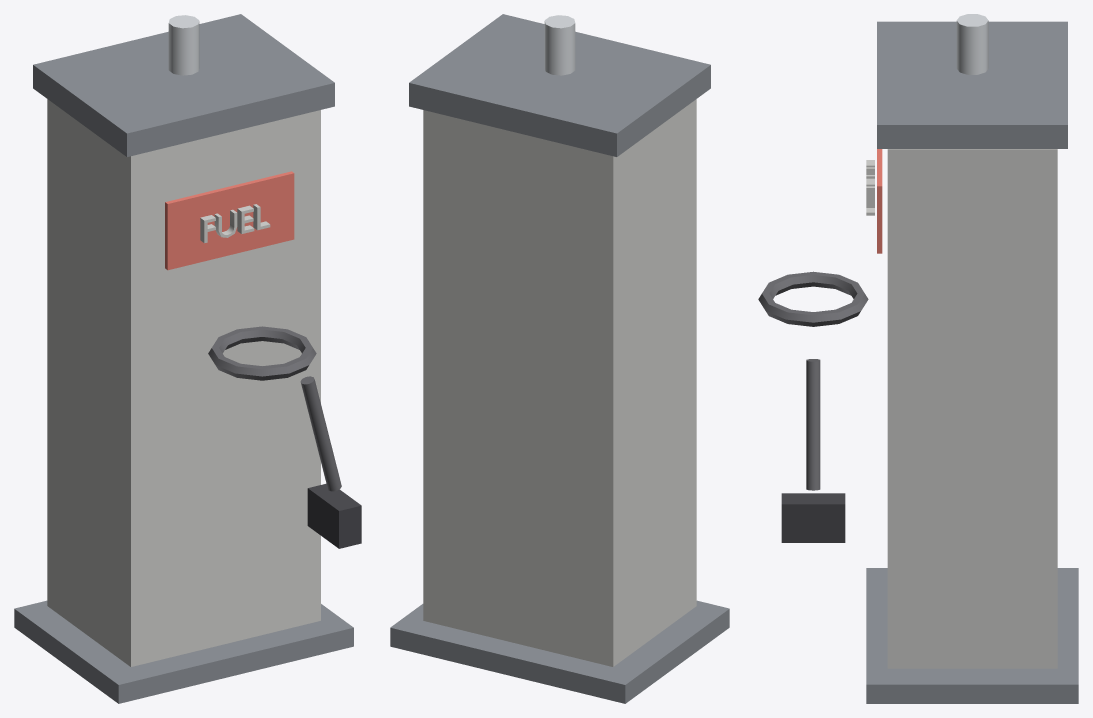
Rendered from FuelDock.fbx.
3 renders of one model, left to right at view 1: azimuth 30°, elevation 25°; view 2: azimuth 150°, elevation 25°; view 3: azimuth 270°, elevation 25°, orthographic.
Visible parts, largest first — view 1: LOD0; view 2: LOD0; view 3: LOD0.
Part boxes in pixels (x1,y1,x2,y2): LOD0: (14, 14, 361, 703); LOD0: (390, 14, 729, 703); LOD0: (758, 14, 1078, 703).
Size of what is drawn, in the model's own units: 52 by 130 by 60.4.
